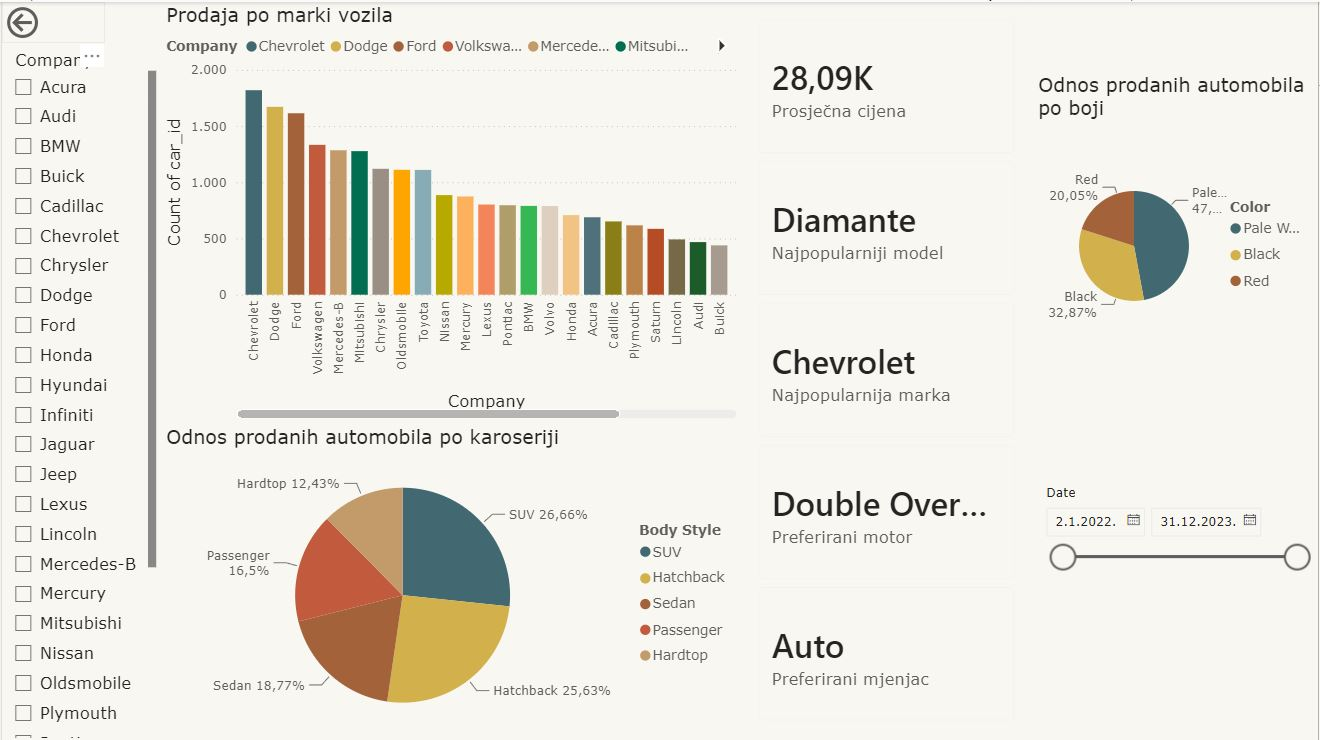

The dashboard page shown, as its layout file describes it:
{"tool":"powerbi","page":{"name":"Prodaja po marki vozila","canvas":[1280,720],"ordinal":1},"visuals":[{"type":"columnChart","title":"Prodaja po marki vozila","fields":{"Category":["dim_car.Company"],"Y":["CountNonNull(fact_sale.car_id)"],"Series":["dim_car.Company"]},"box":[154.5,0,564.6,410],"z":0},{"type":"slicer","fields":{"Values":["dim_car.Company"]},"box":[0,40.4,154.5,679.6],"z":1000},{"type":"actionButton","box":[0,0,100,40],"z":2000},{"type":"pieChart","title":"Odnos prodanih automobila po karoseriji","fields":{"Category":["dim_car.Body Style"],"Y":["CountNonNull(fact_sale.F_car_id)"]},"box":[155,410,565,310],"z":3000},{"type":"cardVisual","fields":{"Data":["fact_sale.Prosječna cijena","fact_sale.Najpopularniji model","fact_sale.Najpopularnija marka","fact_sale.Preferirani motor","fact_sale.Preferirani mjenjac"]},"box":[719.1,0,283.6,720],"z":4000},{"type":"pieChart","title":"Odnos prodanih automobila po boji","fields":{"Category":["dim_car.Color"],"Y":["CountNonNull(fact_sale.F_car_id)"]},"box":[1002.7,67.6,277.5,292.4],"z":5000},{"type":"slicer","fields":{"Values":["dim_date.Date"]},"box":[1002.7,465.4,277.5,125.6],"z":6000}]}

Visuals, with their boxes in screenshot pixels (x1, y1, x2, y2), scaled from the page's 1280x720 canvas onto the 1320x740 screenshot:
"Prodaja po marki vozila" columnChart: Rect(159, 0, 742, 421)
slicer - dim_car.Company: Rect(0, 42, 159, 739)
actionButton: Rect(0, 0, 103, 41)
"Odnos prodanih automobila po karoseriji" pieChart: Rect(160, 421, 742, 739)
cardVisual - fact_sale.Prosječna cijena x fact_sale.Najpopularniji model: Rect(742, 0, 1034, 739)
"Odnos prodanih automobila po boji" pieChart: Rect(1034, 69, 1319, 370)
slicer - dim_date.Date: Rect(1034, 478, 1319, 607)
